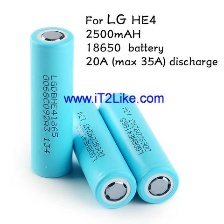battery: (94, 88, 181, 207), (55, 92, 139, 211), (22, 22, 76, 180)
